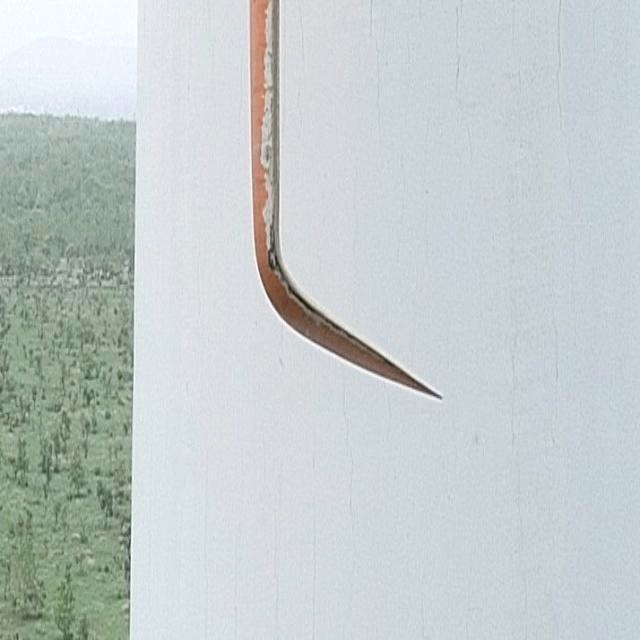EROSION: (259, 218, 359, 348), (262, 16, 278, 214)
